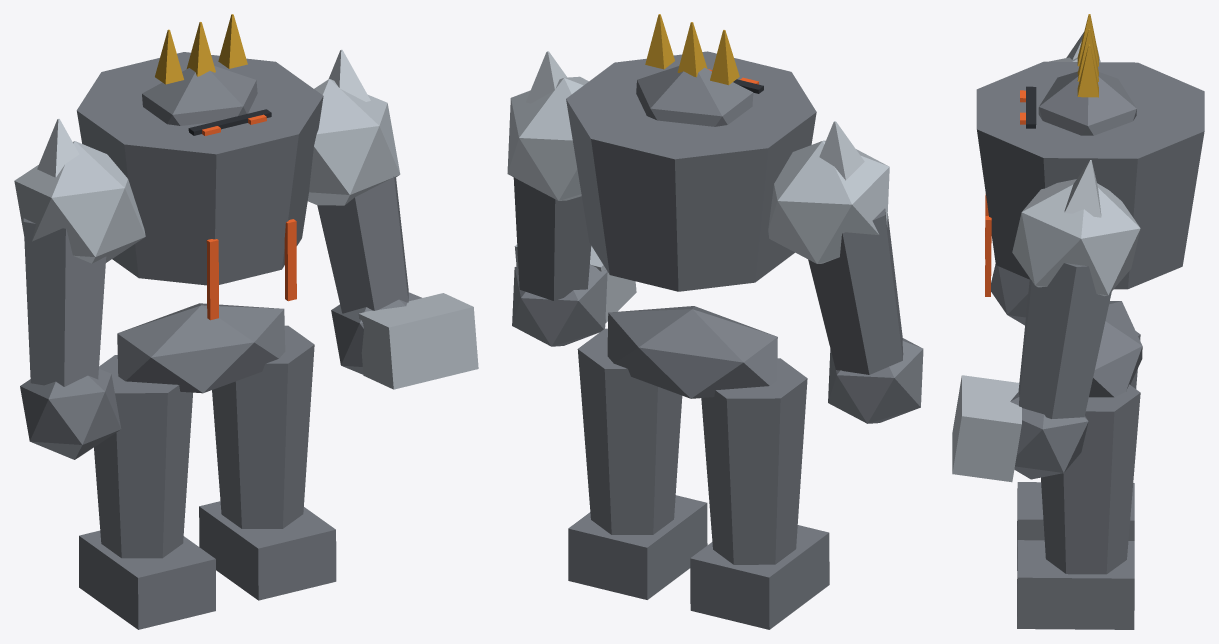
Rendered from npcpose_colossus_idle_01.glb.
3 renders of one model, left to right at view 1: azimuth 30°, elevation 25°; view 2: azimuth 150°, elevation 25°; view 3: azimuth 270°, elevation 25°, orthographic. The views are drawn at different scales.
Visible parts, largest first — view 1: npcpose; view 2: npcpose; view 3: npcpose.
Boxes of the visible parts, <box> form: npcpose: <box>14,14,478,629</box>; npcpose: <box>507,14,923,629</box>; npcpose: <box>952,14,1204,629</box>.
Bounding box in the file's own units: 2.3 × 3.01 × 1.25.
